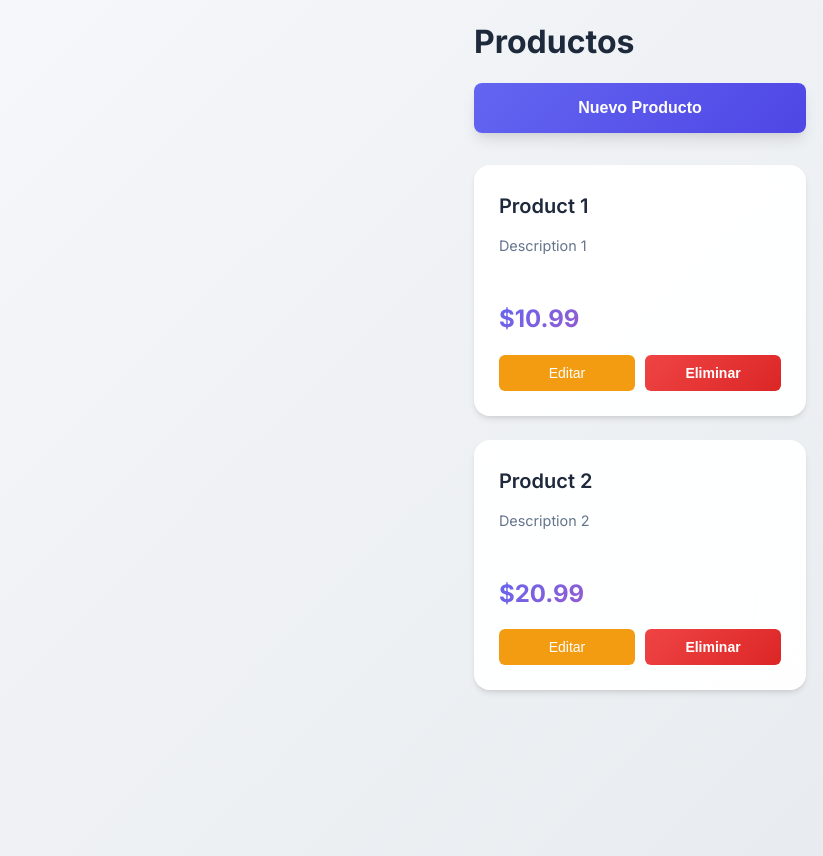
Scenario: Products › should close edit form when cancel button is clicked
# Click "Editar" button to open edit form
Click the button "Editar" below "10.99" at (567,373), box [499,355,635,391]
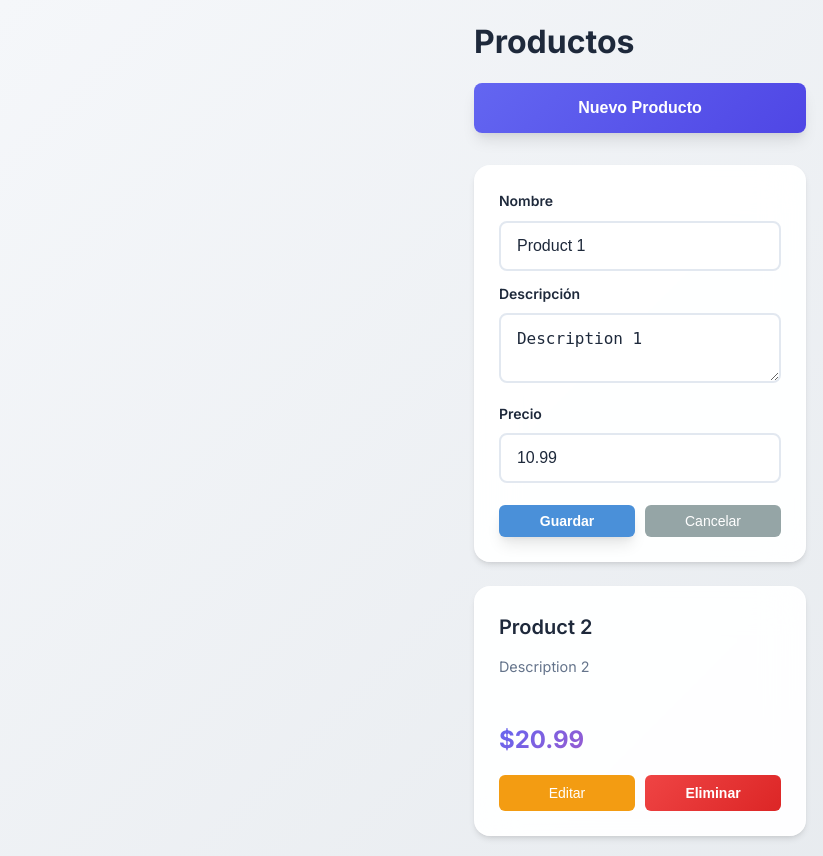
Expected: the button "Guardar" is shown, [499,505,635,537]
Click the button "Cancelar" at (713,521), box [645,505,781,537]
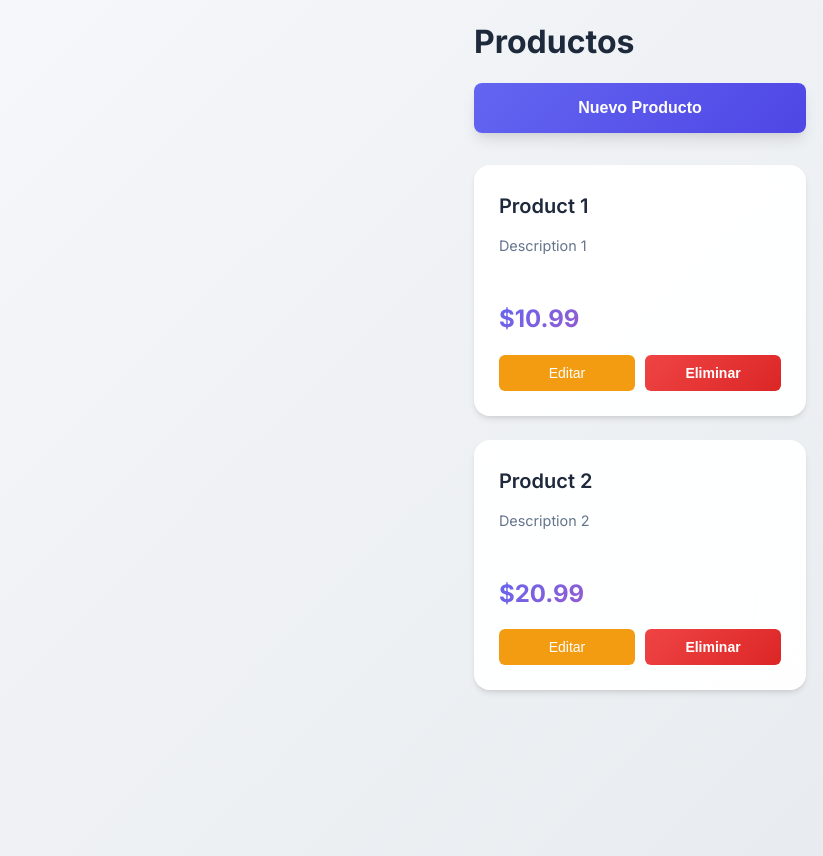
Expected: the button "Guardar" is gone
